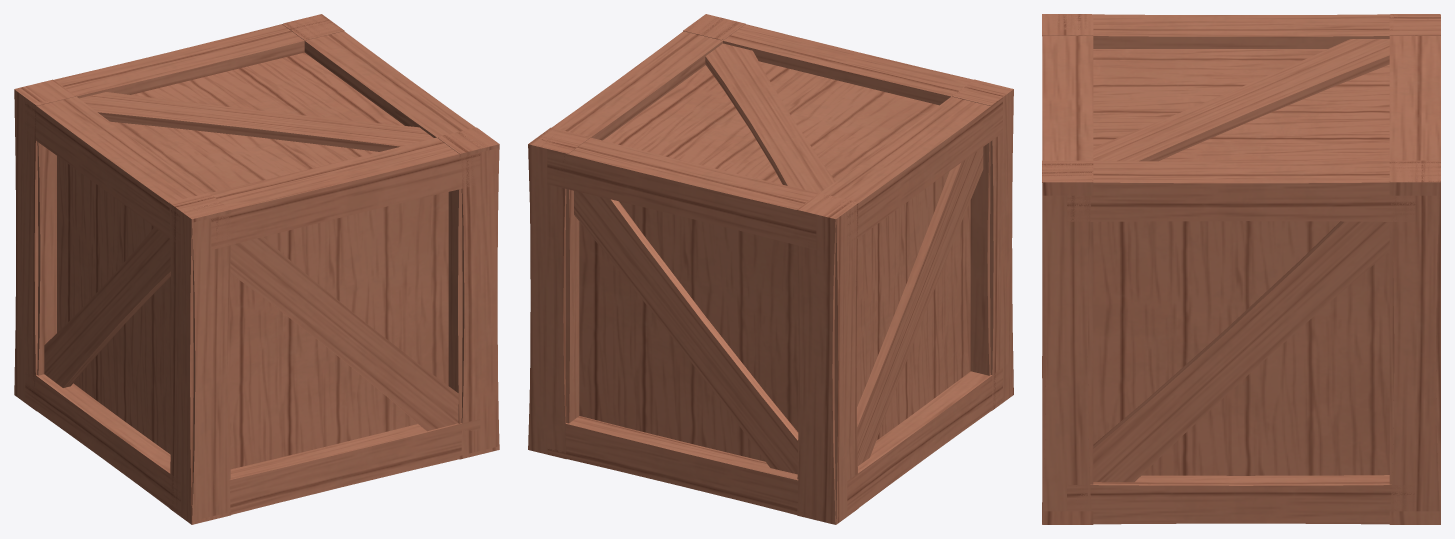
3 views of the same model, side by side, from view 1: azimuth 30°, elevation 25°; view 2: azimuth 150°, elevation 25°; view 3: azimuth 270°, elevation 25° (orthographic). The views are drawn at different scales.
Parts seen in each view (by area): view 1: Box; view 2: Box; view 3: Box.
Part boxes in pixels (bbox=[...]): Box: bbox=[14, 14, 499, 524]; Box: bbox=[528, 14, 1013, 524]; Box: bbox=[1042, 14, 1440, 524].
Size of the model in its own units: 40.06 by 38 by 40.08.
1 material, 1 textured.
